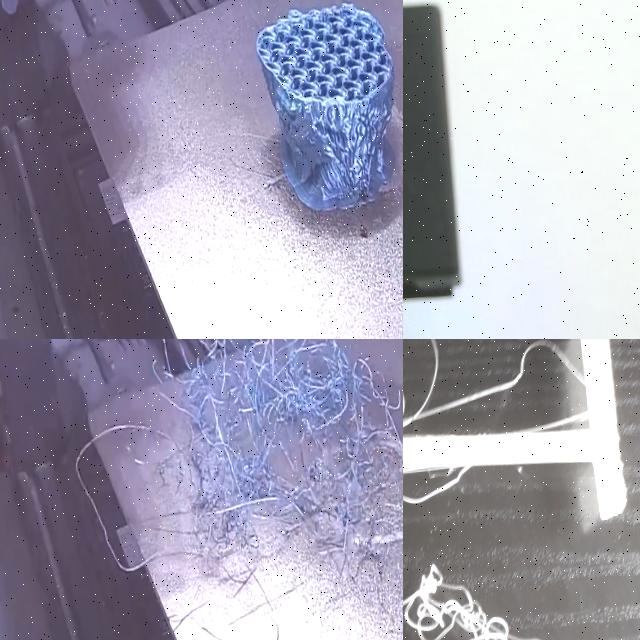spaghetti: (153, 339, 403, 594), (403, 524, 568, 640), (403, 339, 584, 429)
